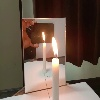fire: (51, 37, 59, 59)
